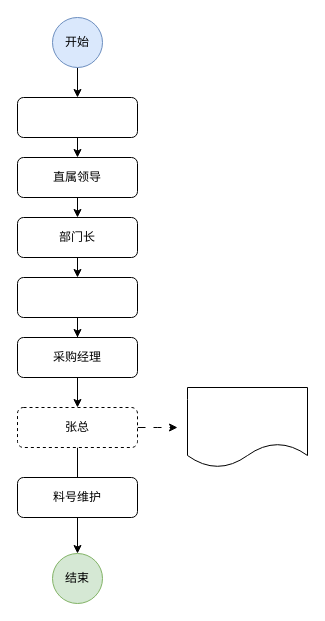
Some shapes in this 325 by 621 pixel diagram are drawn without their labels. The shapes that lost their labels are listed below. From the top down, each one's box as (x1, y1, x2, y2) in pixels, then its label:
(16, 96, 138, 138): 申请人
(16, 276, 138, 318): 采购报价
(186, 386, 308, 468): 由采购报价节点判断是否经过张总
